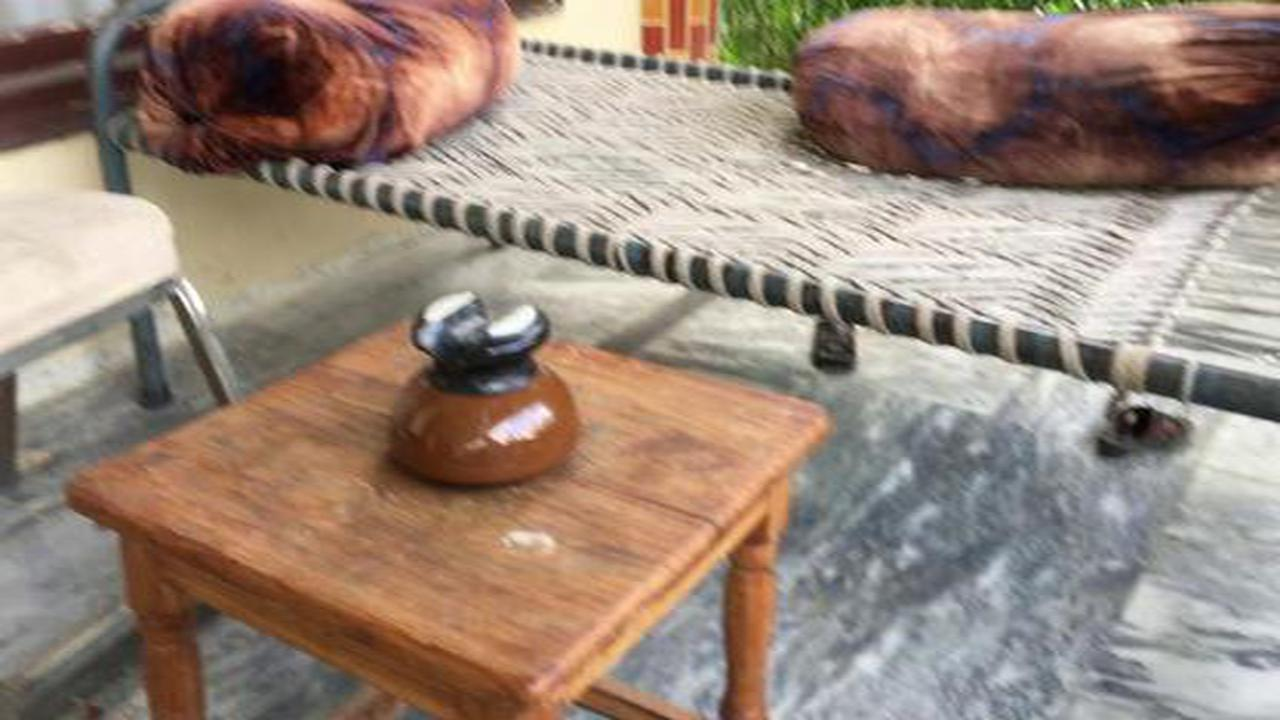insulator_pin: (364, 279, 597, 492)
